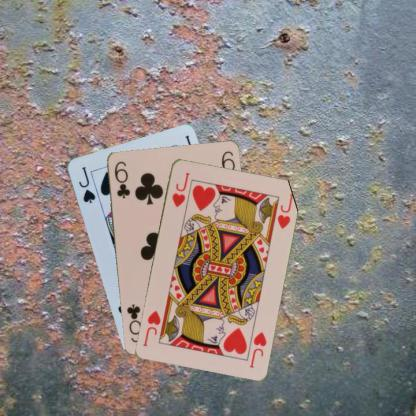6c: (112, 158, 131, 200)
Jh: (246, 329, 268, 369), (169, 169, 191, 208)
Js: (76, 164, 96, 204)
